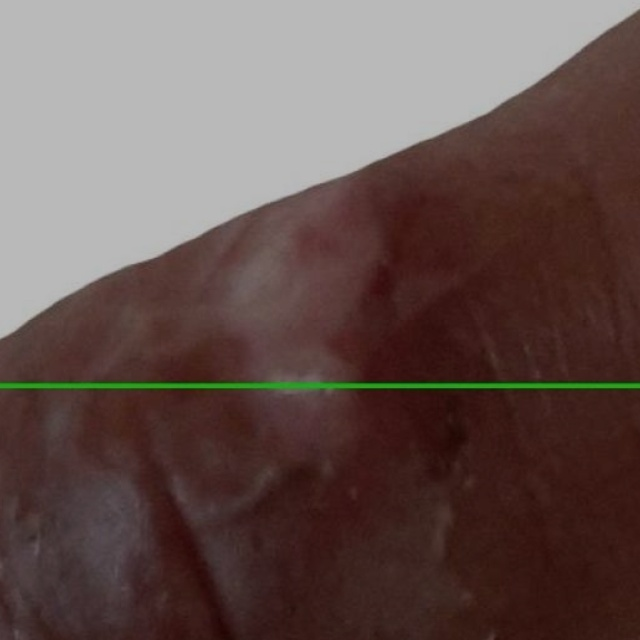Contact Dermatitis: (0, 0, 639, 639), (0, 0, 639, 385)
